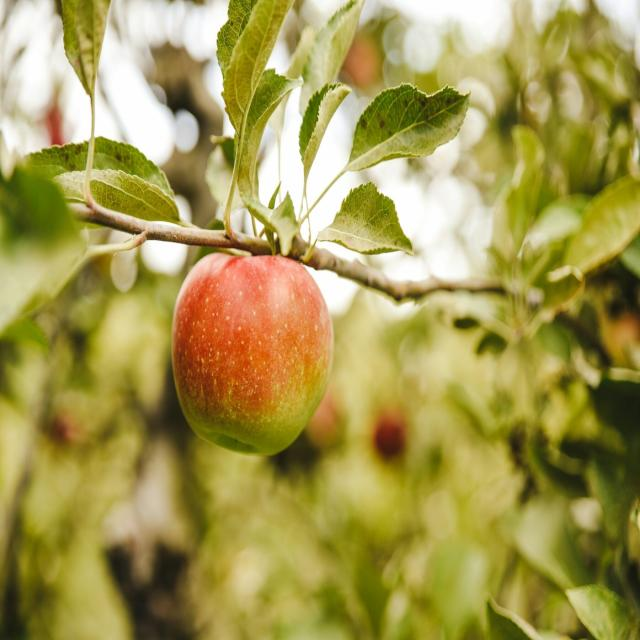manzana: (165, 240, 346, 470)
